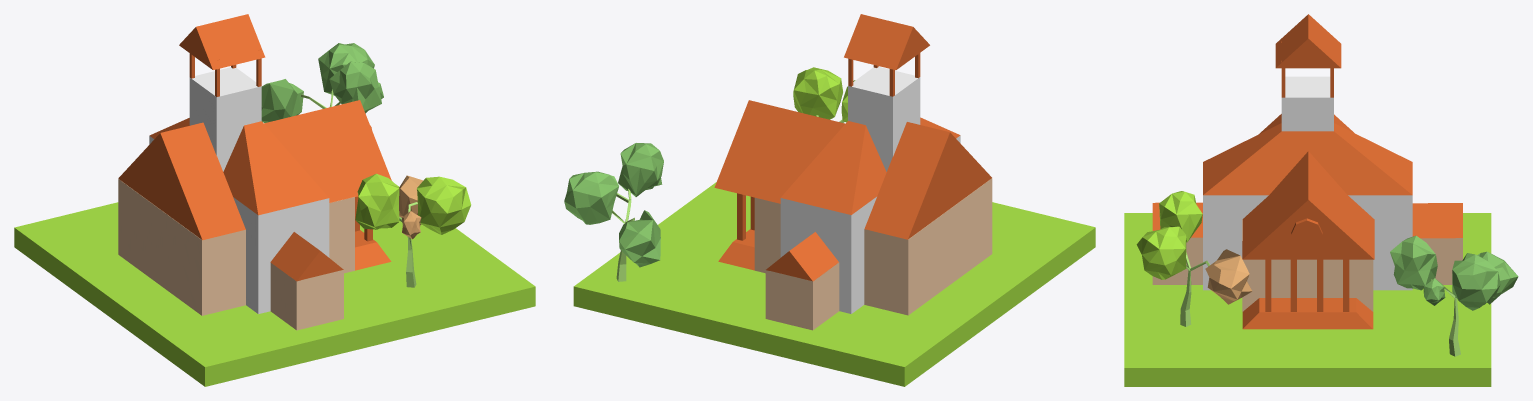
The model's file is building_townhall.fbx.
The picture shows the model from 3 angles, left to right: view 1: azimuth 30°, elevation 25°; view 2: azimuth 150°, elevation 25°; view 3: azimuth 270°, elevation 25°; orthographic projection. The views are drawn at different scales.
Visible parts, largest first — view 1: ground; view 2: ground; view 3: ground.
Part boxes in pixels (<box>): ground: <box>14,14,535,386</box>; ground: <box>564,14,1095,386</box>; ground: <box>1124,14,1518,386</box>.
Bounding box in the file's own units: 73.18 × 54.44 × 75.2.
